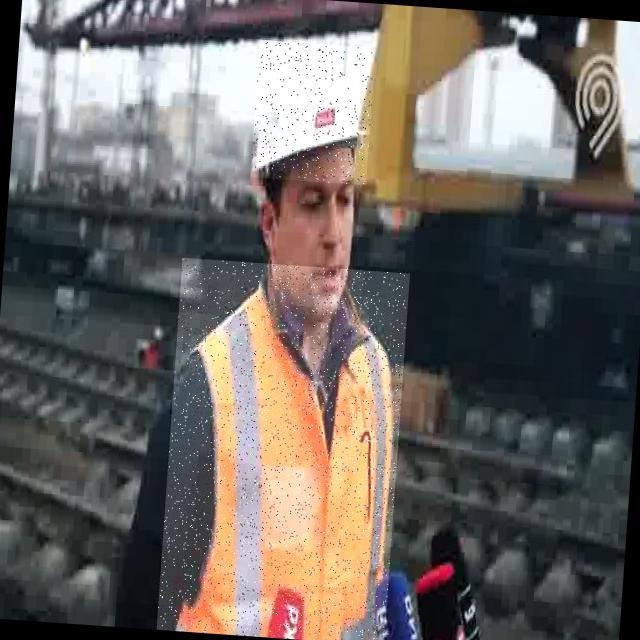Helmet: (250, 40, 375, 185)
Safety Vest: (157, 257, 410, 640)
